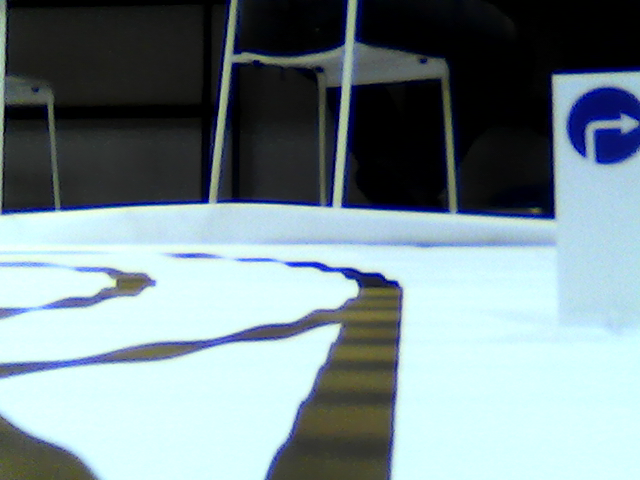Right: (566, 85, 638, 166)
